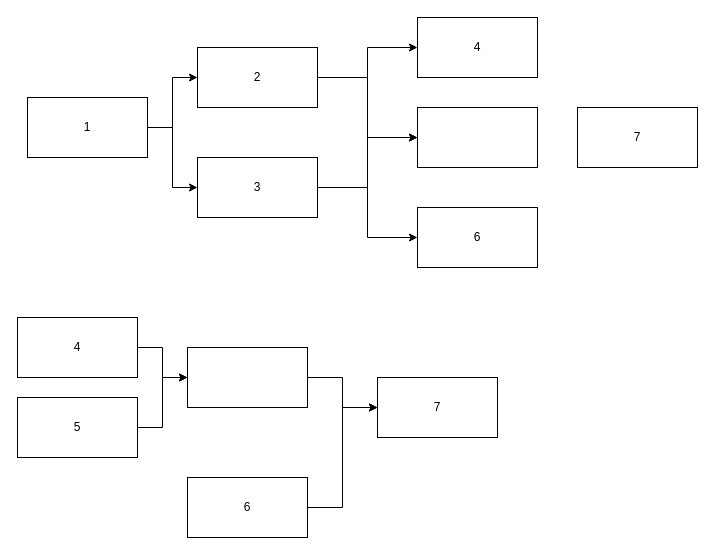
The diagram is 715 pixels wide and 555 high, and some of its shapes have lost their labels. Here are the shapes that lost their labels. From the top down, the centre of each, then its label:
At [477,137]: "5AND".
At [247,377]: "f1".
